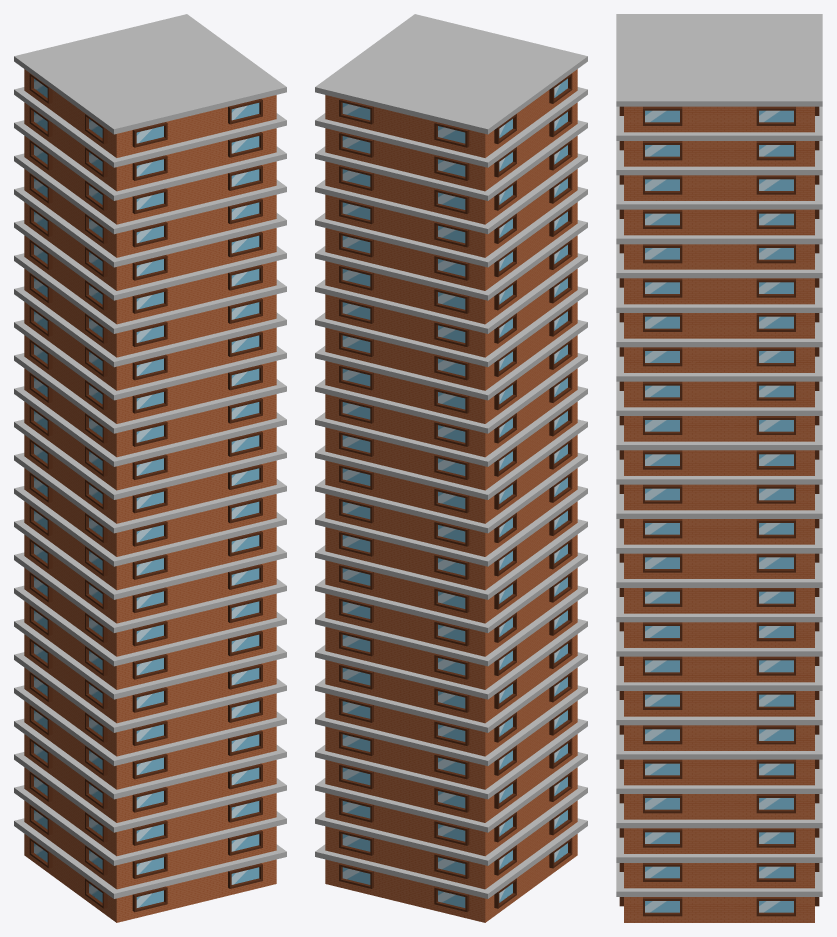
File: VC_Building_20Floors.fbx
The picture shows the model from 3 angles, left to right: view 1: azimuth 30°, elevation 25°; view 2: azimuth 150°, elevation 25°; view 3: azimuth 270°, elevation 25°; orthographic projection. The views are drawn at different scales.
Visible parts, largest first — view 1: VC_20Floors; view 2: VC_20Floors; view 3: VC_20Floors.
Boxes of the visible parts, <box> form: VC_20Floors: <box>14,14,286,922</box>; VC_20Floors: <box>315,14,587,922</box>; VC_20Floors: <box>616,14,822,922</box>.
Bounding box in the file's own units: 10.89 × 48.01 × 10.89.
